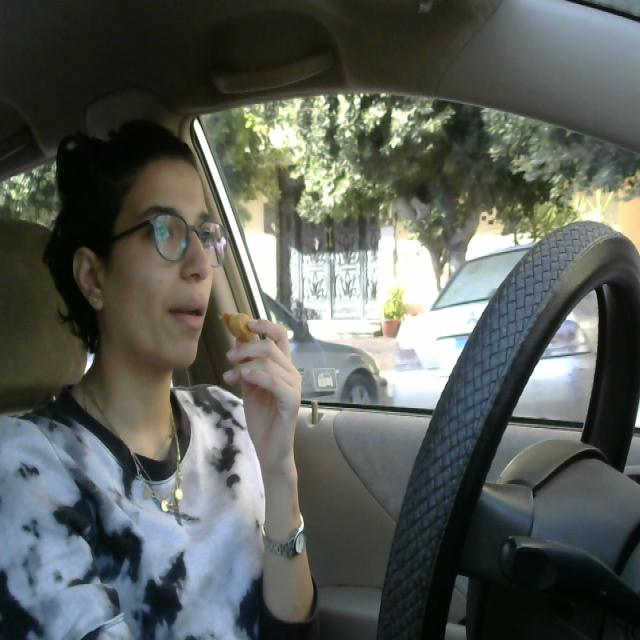eating: (214, 304, 270, 347)
